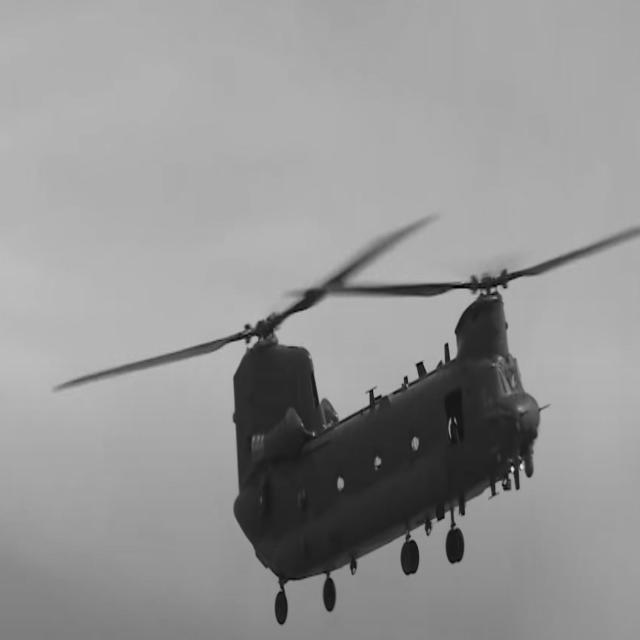Helicopter: (55, 215, 640, 626)
